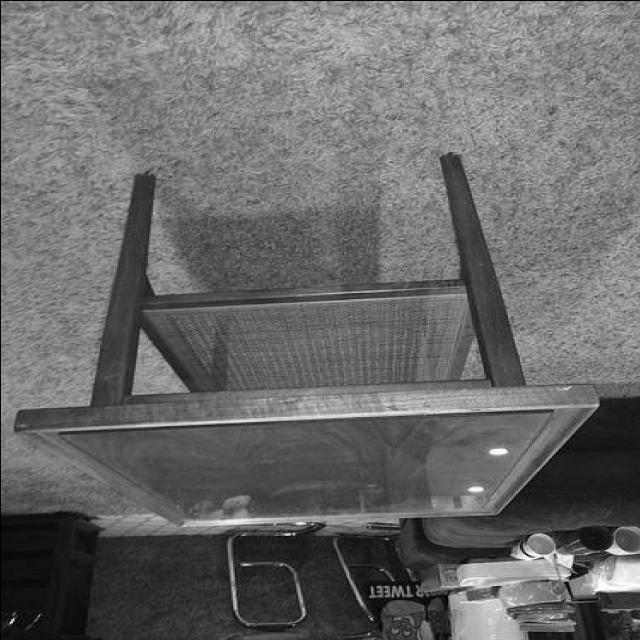table: (7, 158, 600, 527)
